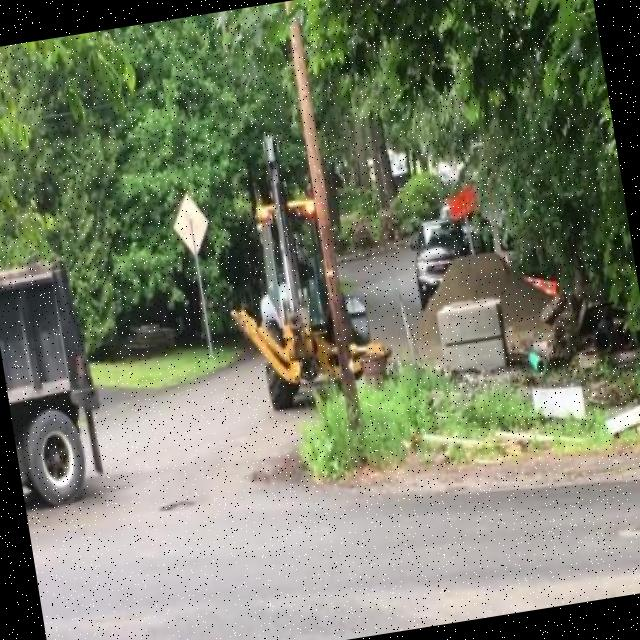Dump Truck: (0, 257, 118, 520)
